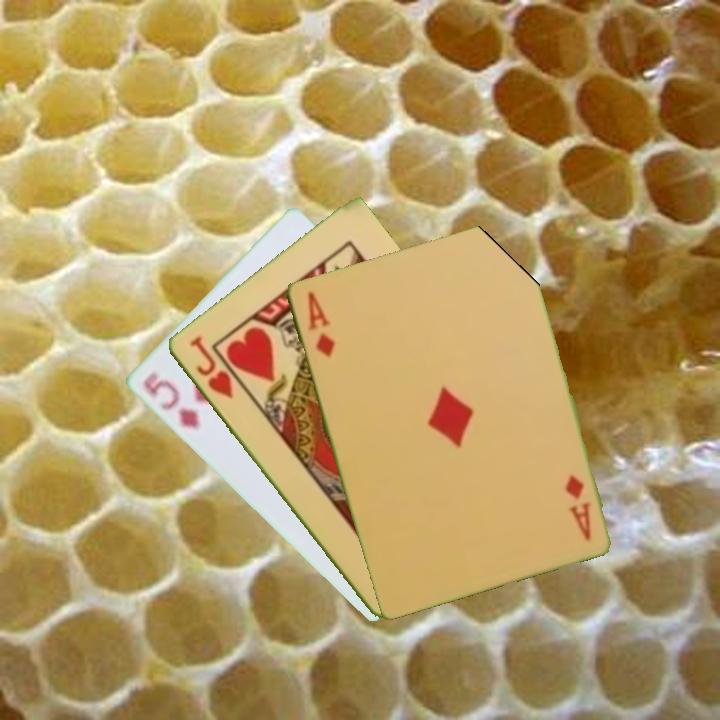5d: (138, 367, 202, 432)
Ad: (303, 288, 338, 360), (561, 471, 593, 544)
Jh: (185, 332, 236, 402)
